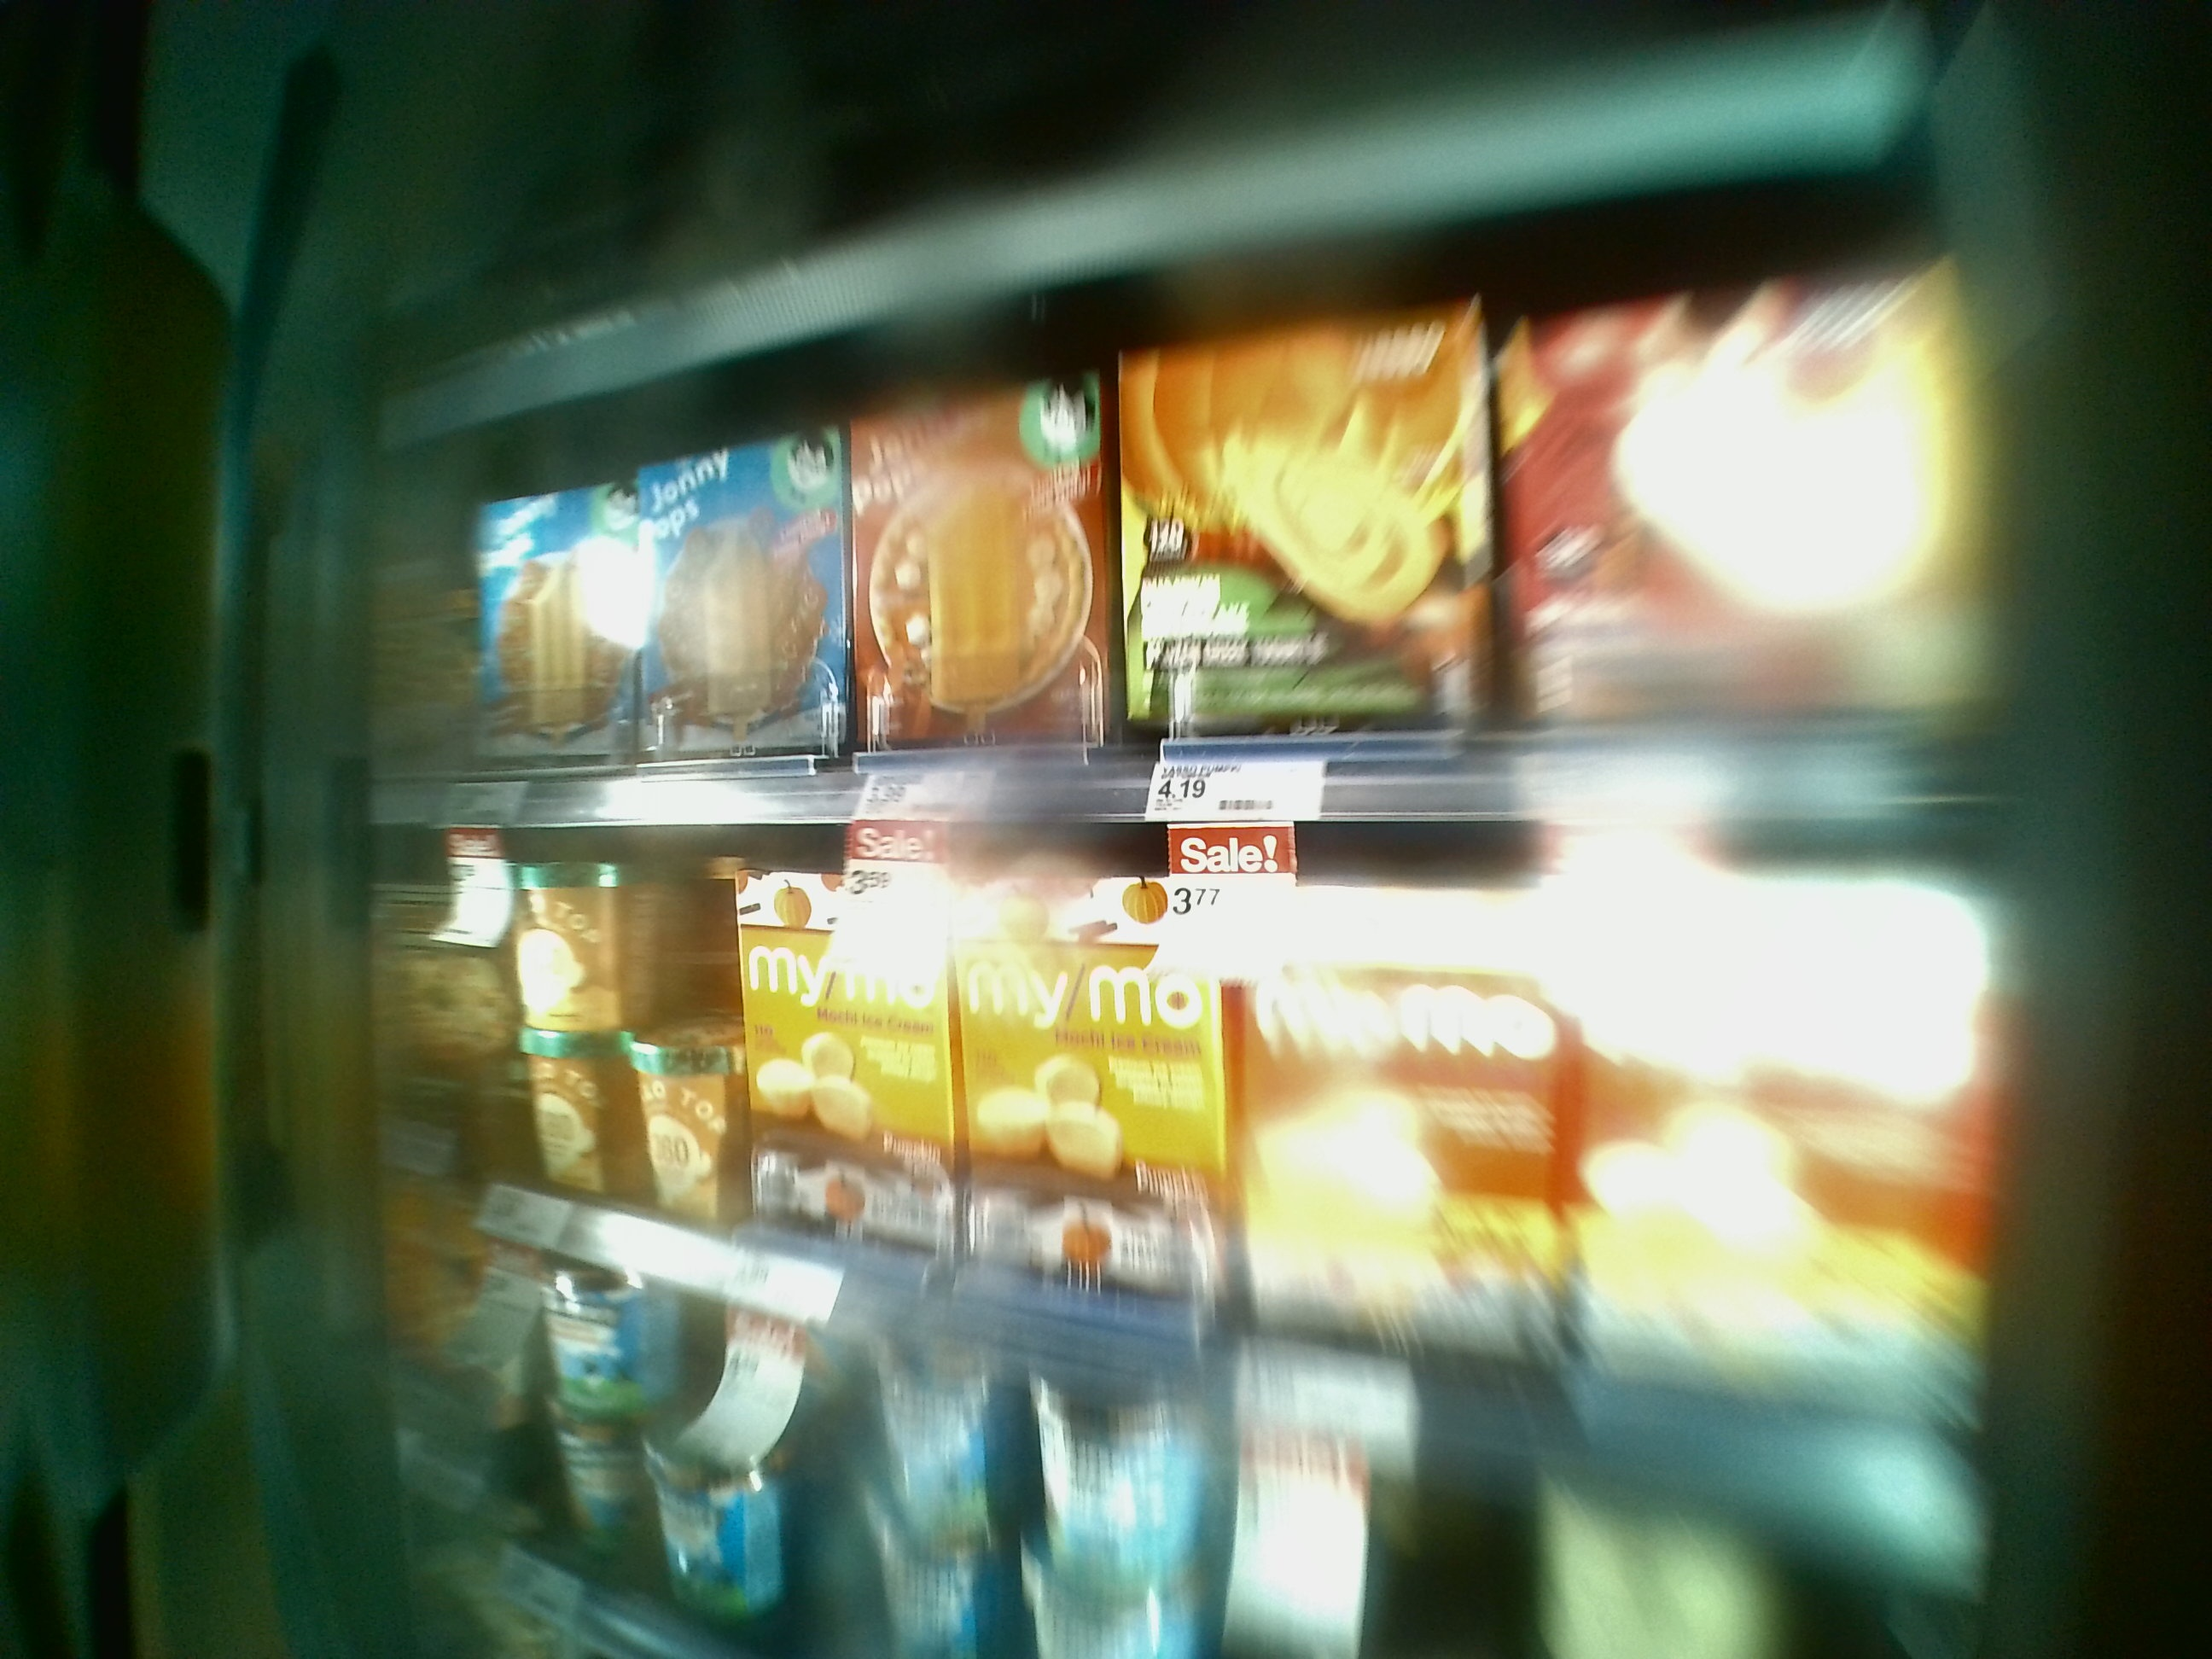shelf: (371, 770, 1986, 1500), (392, 300, 2000, 823)
